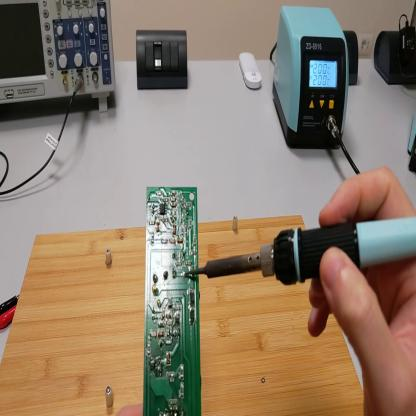hand: (309, 165, 416, 415)
high voltage board: (143, 183, 201, 416)
oscilloscope: (2, 3, 117, 126)
socket: (373, 29, 416, 93), (344, 31, 360, 92)
welder base: (409, 109, 416, 175)
welder probe tip: (184, 209, 415, 280)
welder station: (274, 6, 350, 154)
working area: (2, 212, 368, 416)
